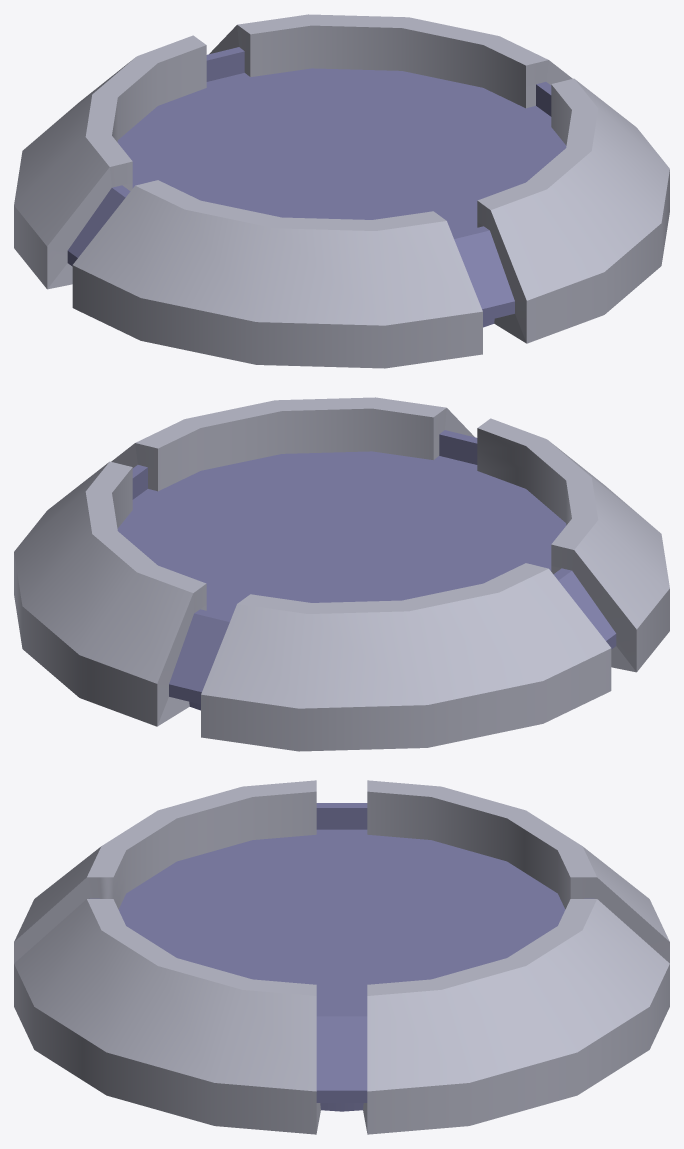
Rendered from triangleButtBase.gltf.
3 renders of one model, top to bottom at view 1: azimuth 30°, elevation 25°; view 2: azimuth 150°, elevation 25°; view 3: azimuth 270°, elevation 25°, orthographic.
Parts seen in each view (by area): view 1: triButt_rim_geo, triButt_base; view 2: triButt_rim_geo, triButt_base; view 3: triButt_rim_geo, triButt_base.
Part boxes in pixels (x1,y1,x2,y2): triButt_rim_geo: (14,14,669,368); triButt_base: (117,68,566,327); triButt_rim_geo: (14,397,669,751); triButt_base: (117,451,566,710); triButt_rim_geo: (14,780,669,1134); triButt_base: (118,829,565,1111).
Size of the model in its own units: 2.76 by 0.5 by 2.76.
